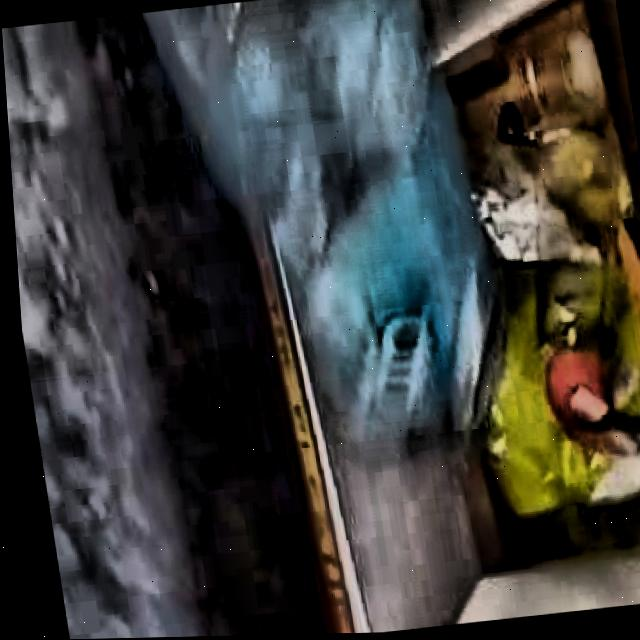plastic: (145, 0, 496, 434)
